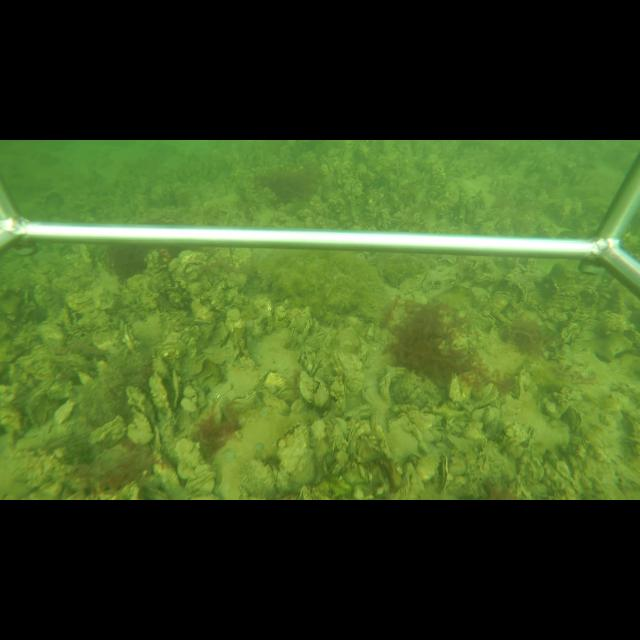Oyster-Closed: (272, 421, 317, 485), (386, 412, 427, 462), (393, 462, 421, 499), (346, 419, 373, 457)
Oyster-Open: (151, 365, 181, 438), (438, 453, 451, 497)
